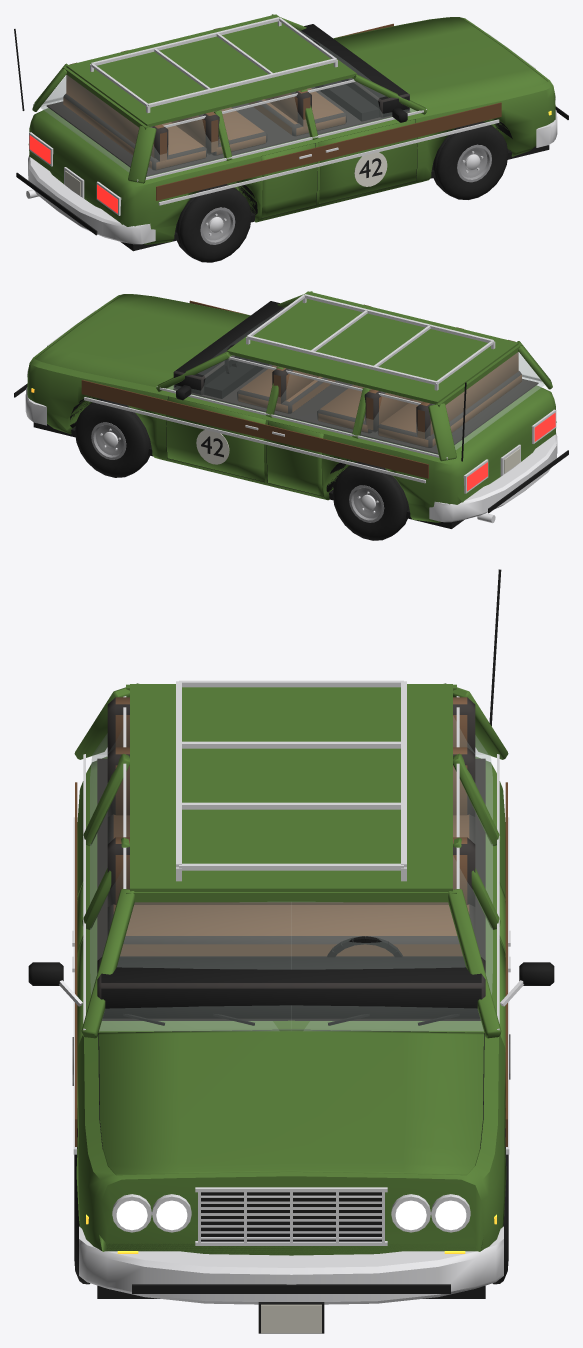
File: derby_wagon_game.glb
3 renders of one model, top to bottom at view 1: azimuth 30°, elevation 25°; view 2: azimuth 150°, elevation 25°; view 3: azimuth 270°, elevation 25°, orthographic. The views are drawn at different scales.
Visible parts, largest first — view 1: interior, body, roof, glass, hood, door_R, wood_panels, wheel_RR, wheel_FR, pillars, bumper_R, roof_rack (+8 smaller); view 2: interior, body, roof, glass, hood, door_L, wood_panels, wheel_RL, wheel_FL, pillars, bumper_R, roof_rack (+8 smaller); view 3: roof, hood, interior, glass, body, bumper_F, pillars, chrome_details, black_details, roof_rack, bumper_F_rubber, headlamps (+5 smaller).
Boxes of the visible parts, x1,y1,x2,y2 form: interior: [46, 24, 410, 176]; body: [28, 17, 555, 244]; roof: [66, 14, 356, 127]; glass: [40, 30, 416, 176]; hood: [334, 17, 547, 109]; door_R: [260, 119, 417, 217]; wood_panels: [156, 23, 501, 200]; wheel_RR: [175, 184, 251, 262]; wheel_FR: [432, 121, 508, 199]; pillars: [32, 14, 427, 183]; bumper_R: [28, 155, 155, 244]; roof_rack: [90, 17, 337, 113]; interior: [173, 301, 538, 454]; body: [27, 294, 556, 522]; roof: [227, 291, 518, 404]; glass: [167, 307, 544, 454]; hood: [35, 294, 249, 387]; door_L: [166, 396, 323, 495]; wood_panels: [81, 300, 428, 478]; wheel_RL: [332, 461, 409, 540]; wheel_FL: [75, 398, 151, 477]; pillars: [156, 291, 552, 461]; bumper_R: [429, 433, 557, 522]; roof_rack: [246, 294, 495, 390]; roof: [130, 684, 452, 891]; hood: [99, 1029, 483, 1175]; interior: [97, 697, 485, 1020]; glass: [90, 716, 492, 1030]; body: [76, 756, 506, 1255]; bumper_F: [79, 1226, 503, 1304]; pillars: [74, 683, 508, 1038]; chrome_details: [59, 817, 523, 1245]; black_details: [28, 569, 554, 1333]; roof_rack: [176, 680, 406, 881]; bumper_F_rubber: [132, 1284, 450, 1293]; headlamps: [116, 1200, 466, 1230].
Size of the model in its own units: 5.36 by 1.95 by 2.57.
